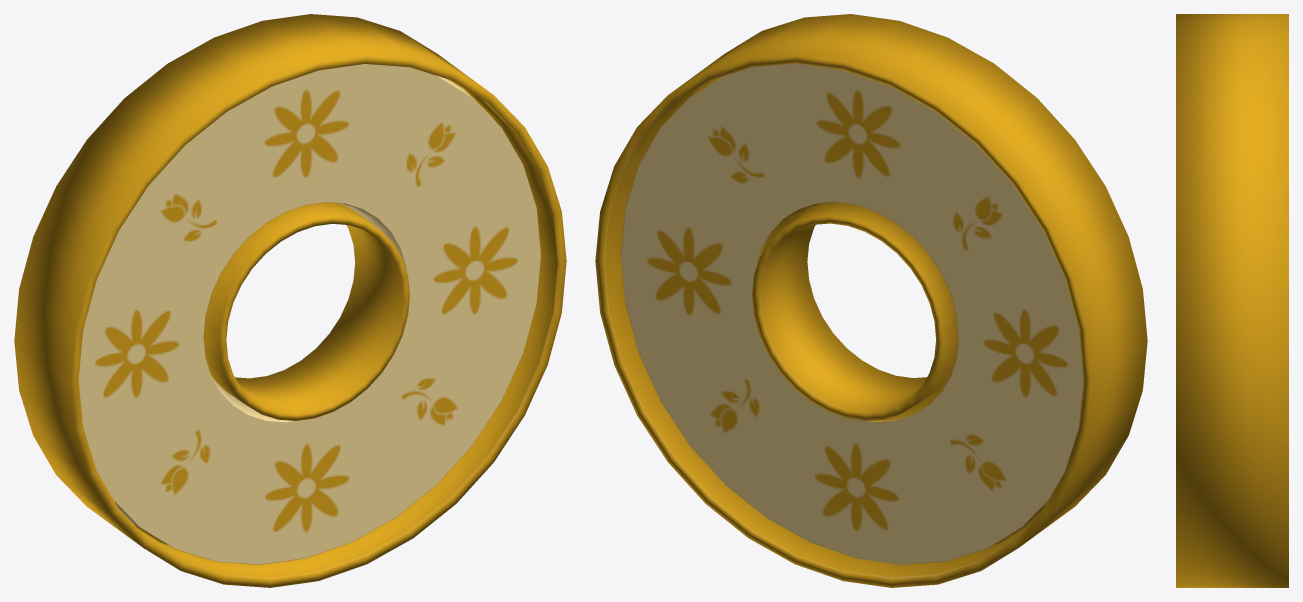
Rendered from Coin.fbx.
The picture shows the model from 3 angles, left to right: view 1: azimuth 30°, elevation 25°; view 2: azimuth 150°, elevation 25°; view 3: azimuth 270°, elevation 25°; orthographic projection.
Visible parts, largest first — view 1: Coin01; view 2: Coin01; view 3: Coin01.
Part boxes in pixels (bbox=[...]): Coin01: bbox=[14, 14, 566, 587]; Coin01: bbox=[595, 14, 1147, 587]; Coin01: bbox=[1176, 14, 1288, 587].
Bounding box in the file's own units: 24.25 × 24.25 × 4.76.
